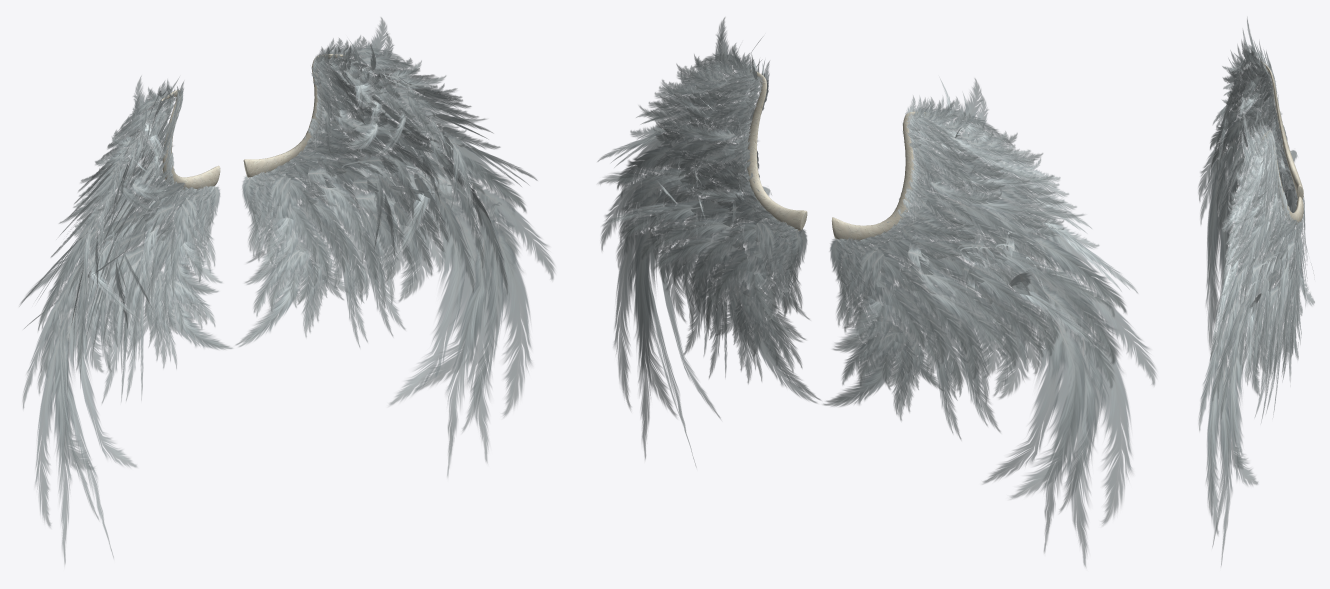
Rendered from wings2.glb.
The picture shows the model from 3 angles, left to right: view 1: azimuth 30°, elevation 25°; view 2: azimuth 150°, elevation 25°; view 3: azimuth 270°, elevation 25°; orthographic projection. The views are drawn at different scales.
Parts seen in each view (by area): view 1: polySurface2193; view 2: polySurface2193; view 3: polySurface2193.
Part boxes in pixels (bbox=[...]): polySurface2193: bbox=[19, 17, 555, 565]; polySurface2193: bbox=[597, 17, 1156, 567]; polySurface2193: bbox=[1198, 17, 1314, 566].
Bounding box in the file's own units: 2.63 × 2.16 × 0.5714.
Materials: 2 (2 with a texture image).
